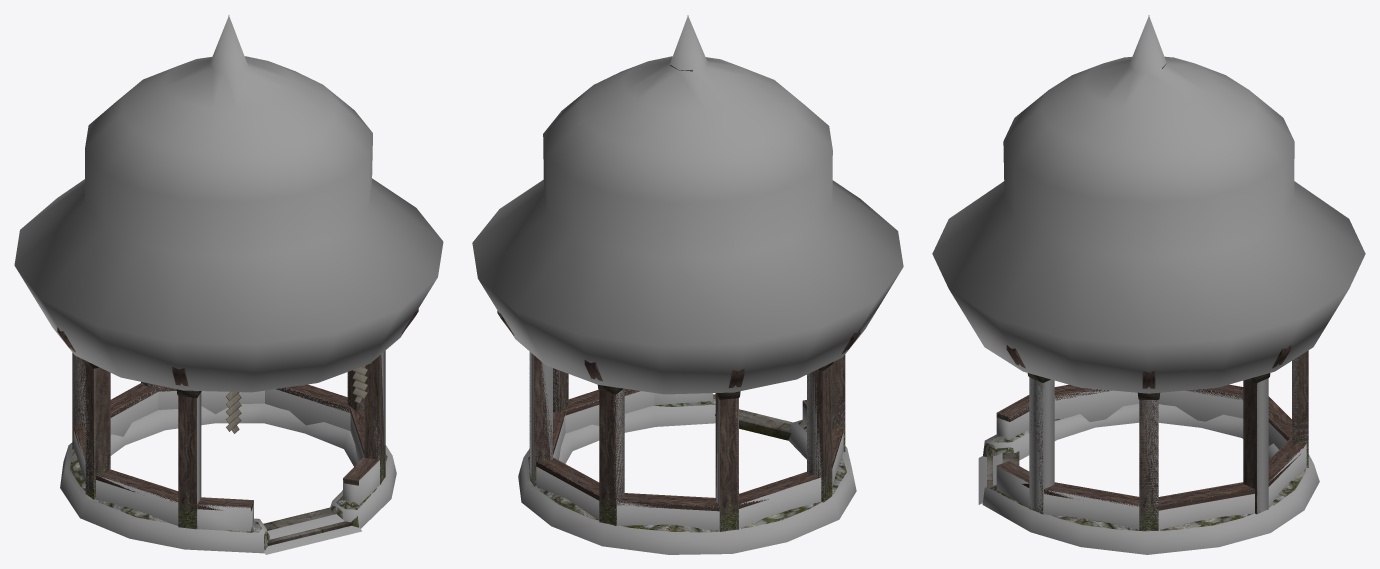
File: Scene_Build_XuanWuShan_CaoTing_1.FBX
The picture shows the model from 3 angles, left to right: view 1: azimuth 30°, elevation 25°; view 2: azimuth 150°, elevation 25°; view 3: azimuth 270°, elevation 25°; orthographic projection.
Visible parts, largest first — view 1: Scene_Build_XuanWuShan_CaoTing_1_Xcm, Scene_Build_XuanWuShan_CaoTing_1a; view 2: Scene_Build_XuanWuShan_CaoTing_1_Xcm, Scene_Build_XuanWuShan_CaoTing_1a; view 3: Scene_Build_XuanWuShan_CaoTing_1_Xcm, Scene_Build_XuanWuShan_CaoTing_1a.
Boxes of the visible parts, bbox=[...] form: Scene_Build_XuanWuShan_CaoTing_1_Xcm: bbox=[14, 16, 443, 554]; Scene_Build_XuanWuShan_CaoTing_1a: bbox=[57, 15, 418, 550]; Scene_Build_XuanWuShan_CaoTing_1_Xcm: bbox=[472, 16, 903, 554]; Scene_Build_XuanWuShan_CaoTing_1a: bbox=[497, 15, 860, 532]; Scene_Build_XuanWuShan_CaoTing_1_Xcm: bbox=[932, 16, 1365, 554]; Scene_Build_XuanWuShan_CaoTing_1a: bbox=[983, 15, 1308, 531].
Size of the model in its own units: 699 by 834 by 699.
